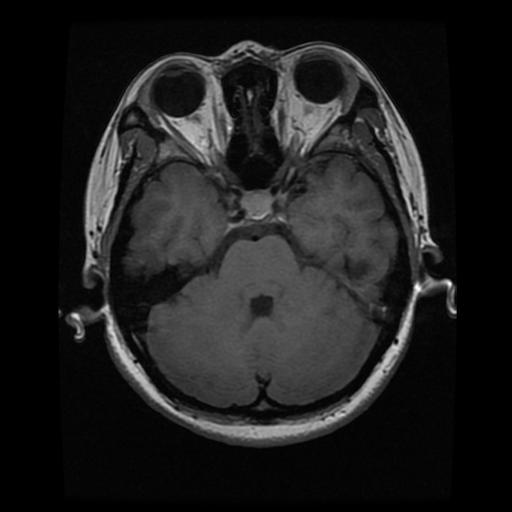Pituirity_tumour: (240, 191, 273, 217)
